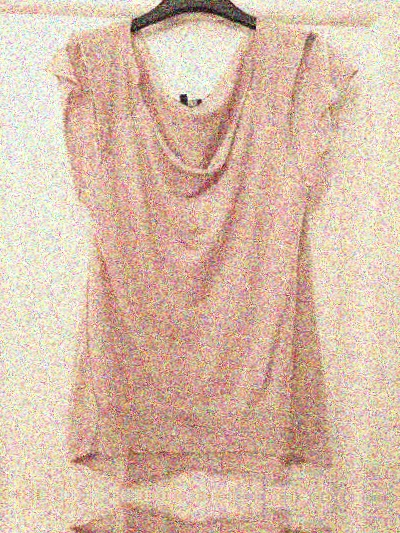Dress: (23, 6, 353, 482), (18, 511, 348, 533)
